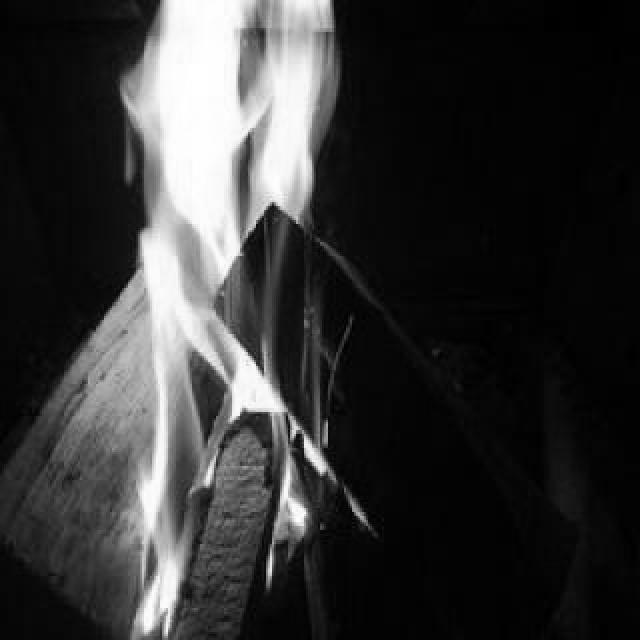Fire: (102, 3, 395, 630)
